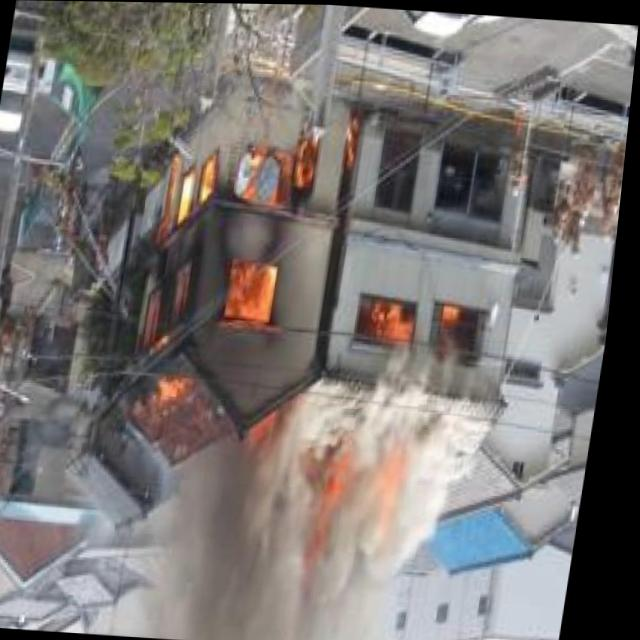Fire: (122, 111, 332, 438), (299, 440, 422, 543), (367, 290, 493, 355)
